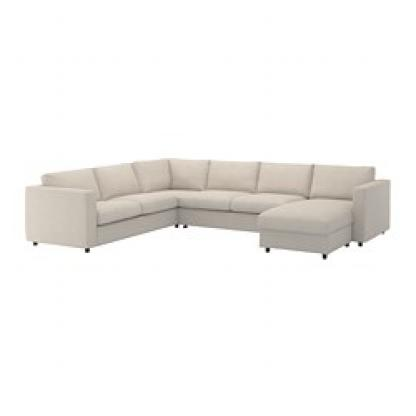Sofa: (20, 148, 393, 260)
